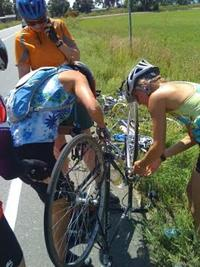person: (125, 58, 200, 240)
